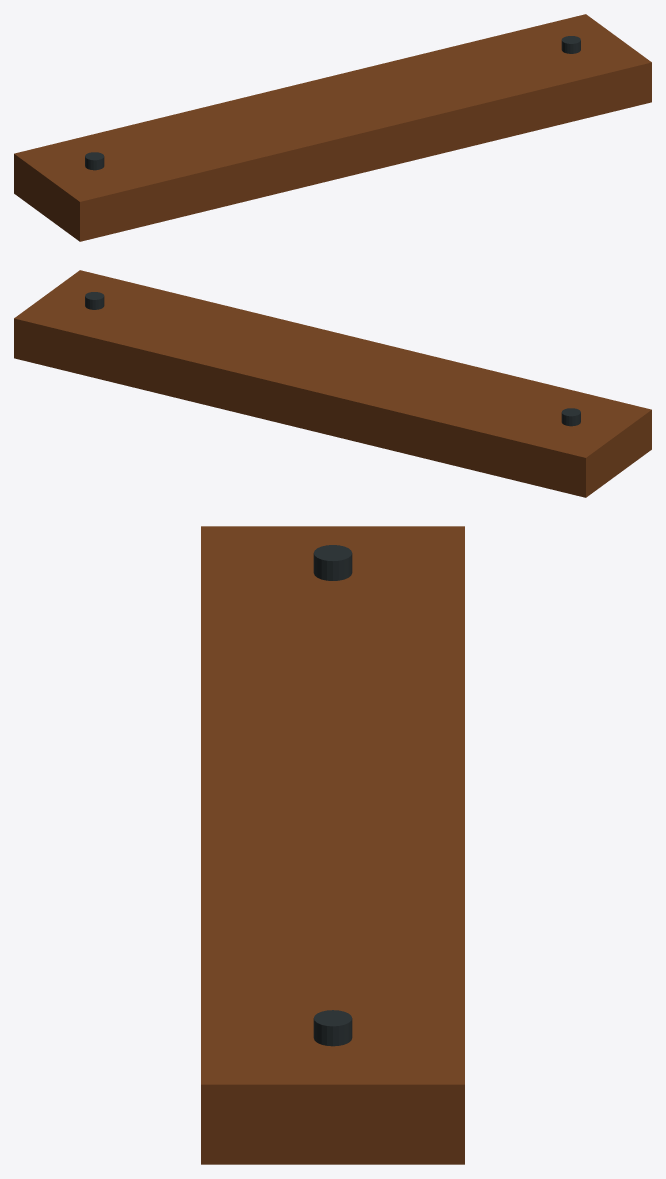
The model's file is MOV_BRIDGE_PLANK_RECT_02.obj.
3 views of the same model, one above another, from view 1: azimuth 30°, elevation 25°; view 2: azimuth 150°, elevation 25°; view 3: azimuth 270°, elevation 25° (orthographic). The views are drawn at different scales.
Parts seen in each view (by area): view 1: Part_0; view 2: Part_0; view 3: Part_0, Part_1, Part_2.
Part boxes in pixels (x1=…): Part_0: x1=14, y1=14, x2=651, y2=241; Part_0: x1=14, y1=270, x2=651, y2=497; Part_0: x1=201, y1=526, x2=464, y2=1164; Part_1: x1=313, y1=1010, x2=352, y2=1046; Part_2: x1=313, y1=545, x2=352, y2=580.
Bounding box in the file's own units: 2.4 × 0.2 × 0.48.
